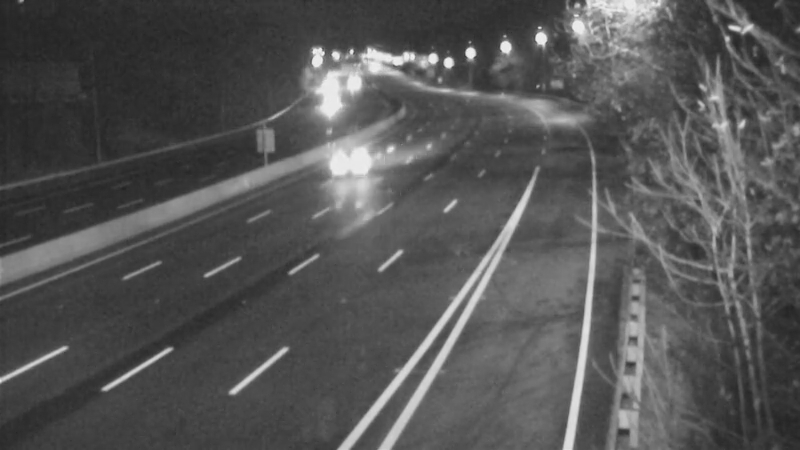vehicle: (312, 118, 392, 198), (299, 85, 349, 135), (327, 59, 377, 109)
